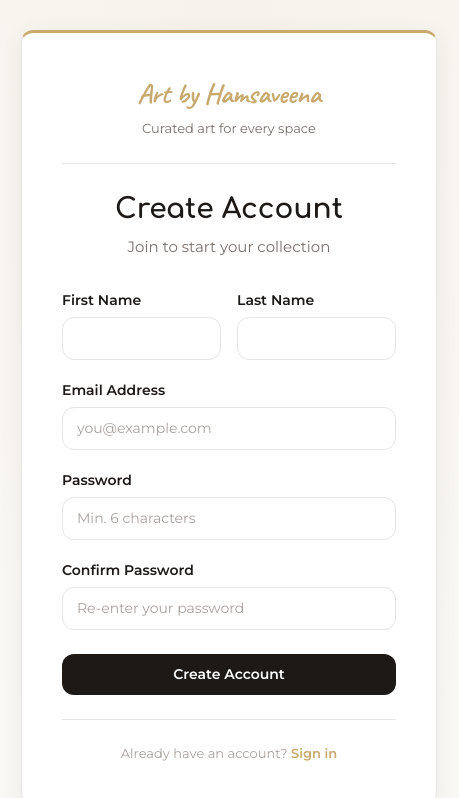
SignUpForm › shows validation error for empty first name on submit
What coordinates should you click on to do the following:
click the button "Create Account"
I would click on:
 (229, 674)
Its box is [62, 654, 396, 695].
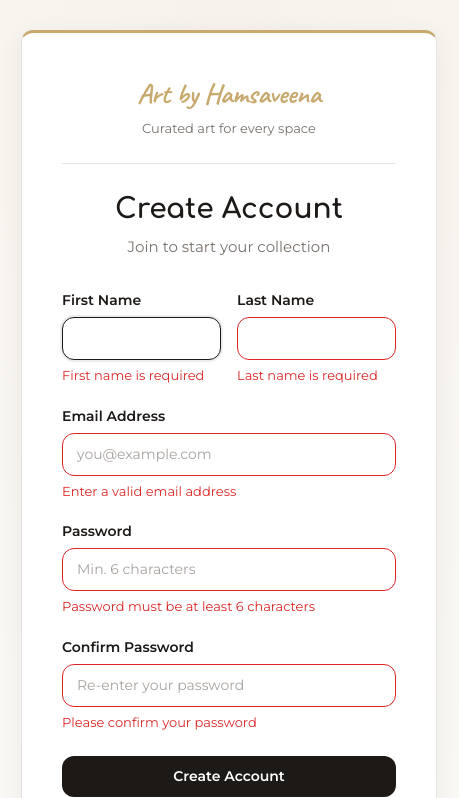
Expected: the text "First name is required" is shown, [62, 366, 221, 386]
